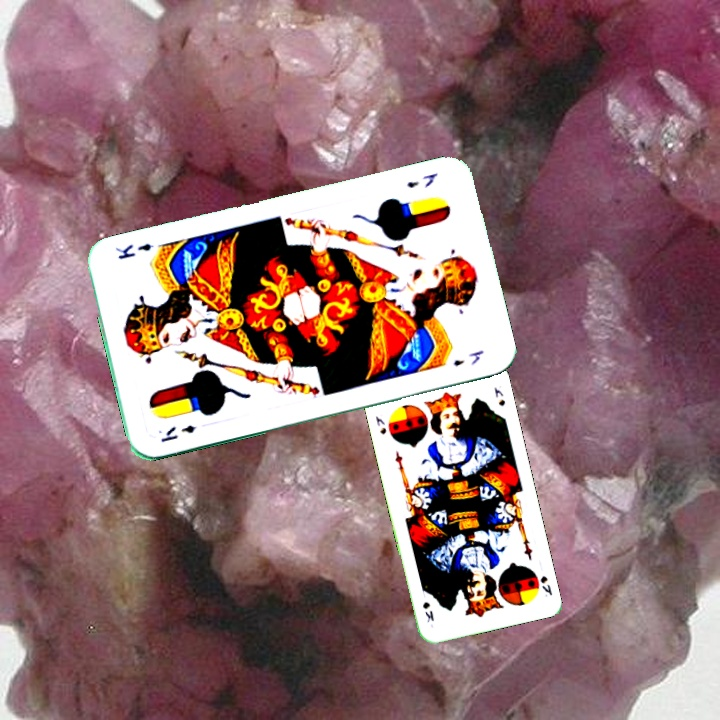EK: (156, 420, 198, 445), (402, 168, 441, 191)
SK: (536, 572, 555, 599), (371, 412, 389, 437)
